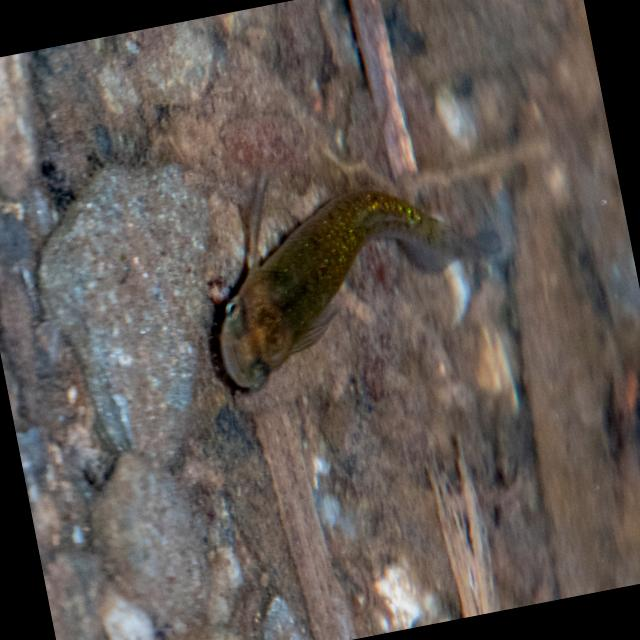Sivrisinek Baligi: (197, 154, 525, 394)
